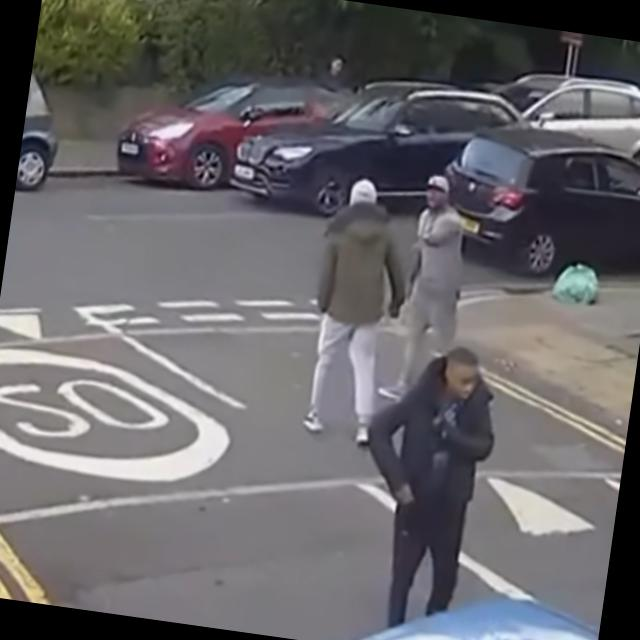person: (342, 334, 510, 635), (294, 176, 421, 446), (379, 170, 482, 410), (316, 54, 356, 92)
